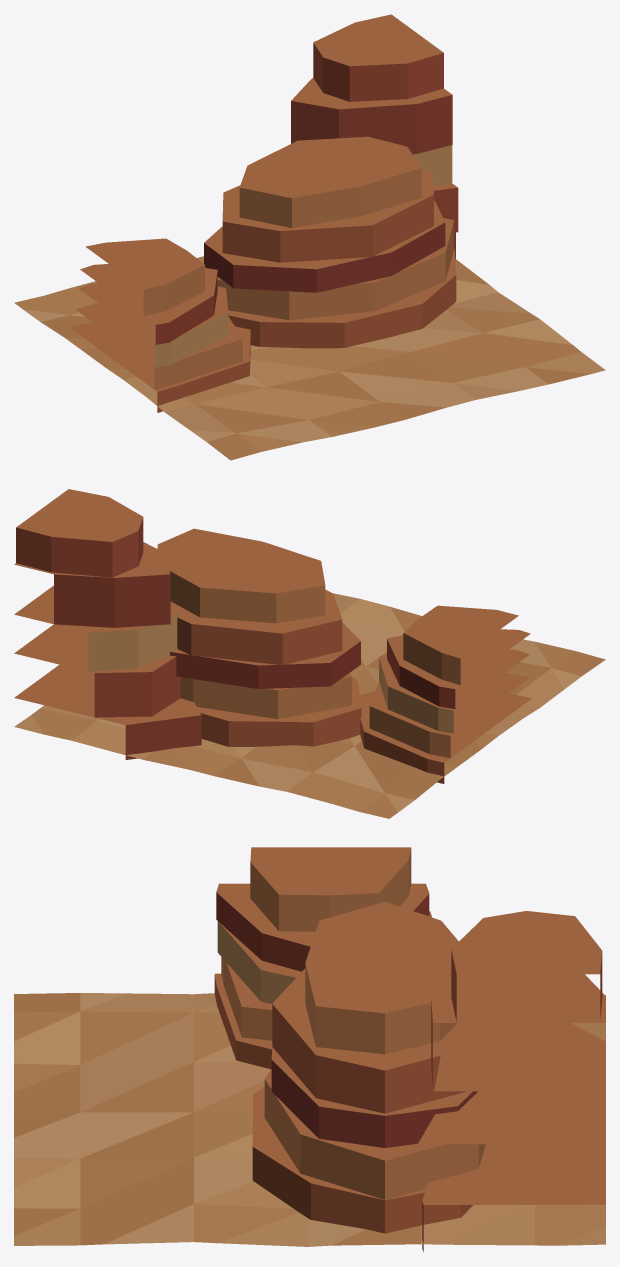
3 renders of one model, top to bottom at view 1: azimuth 30°, elevation 25°; view 2: azimuth 150°, elevation 25°; view 3: azimuth 270°, elevation 25°, orthographic. The views are drawn at different scales.
Parts seen in each view (by area): view 1: baked; view 2: baked; view 3: baked.
Boxes of the visible parts, x1,y1,x2,y2 form: baked: (14,14,605,460); baked: (14,489,605,818); baked: (14,847,605,1252).
Size of the model in its own units: 62.5 by 32.44 by 62.5.
